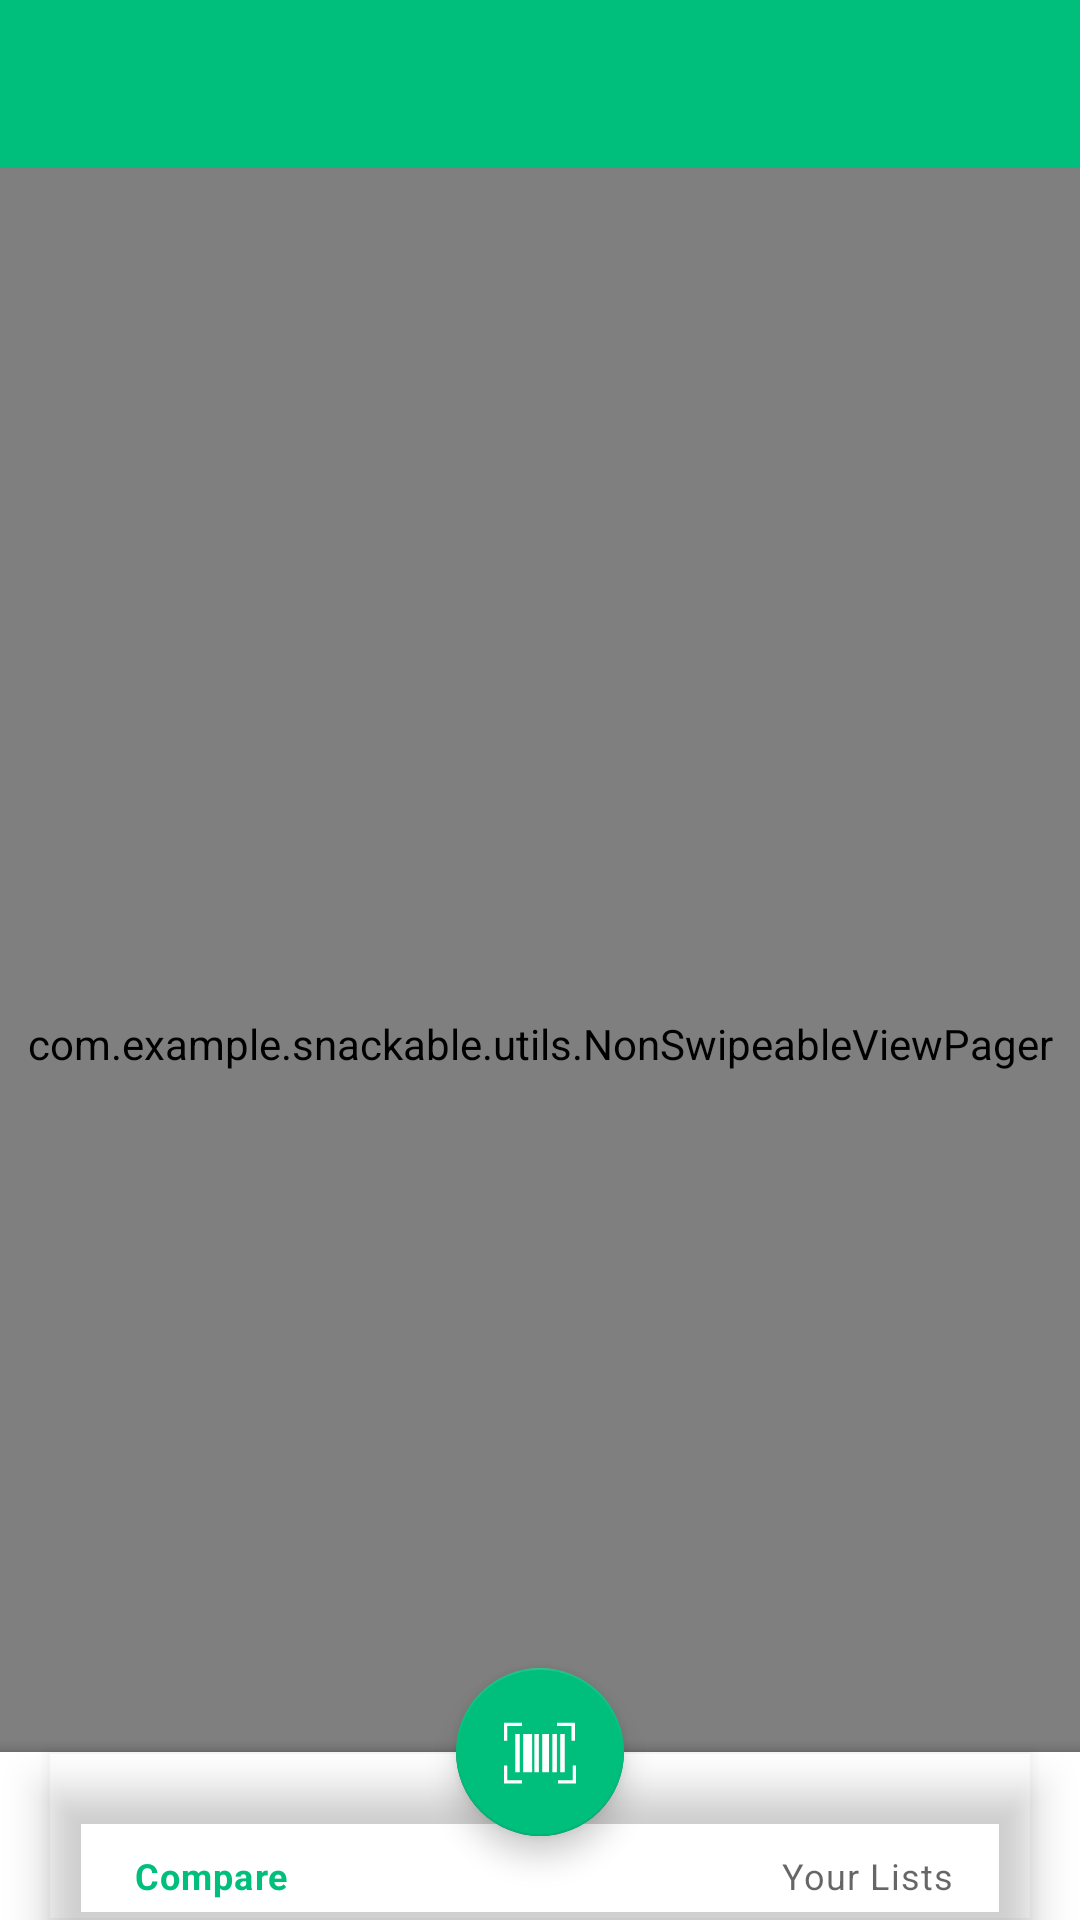

Icons on this 1080×1920 Android screen, each with the point to tap as (x=x, y=y):
scanner: (x=540, y=1752)
